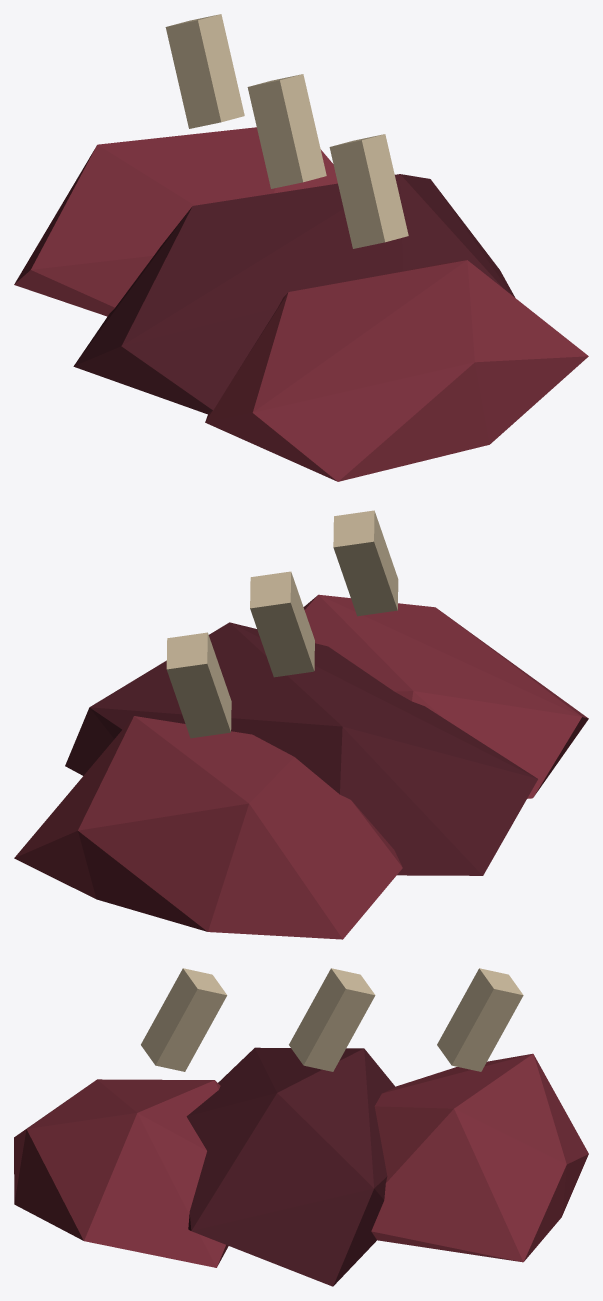
File: objet_carapace.glb
3 views of the same model, one above another, from view 1: azimuth 30°, elevation 25°; view 2: azimuth 150°, elevation 25°; view 3: azimuth 270°, elevation 25° (orthographic). The views are drawn at different scales.
Parts seen in each view (by area): view 1: carapace_carapace.002, carapace_carapace_sombre.002, carapace_corne.002; view 2: carapace_carapace.002, carapace_carapace_sombre.002, carapace_corne.002; view 3: carapace_carapace.002, carapace_carapace_sombre.002, carapace_corne.002.
Boxes of the visible parts, x1,y1,x2,y2 form: carapace_carapace.002: (14, 127, 588, 481); carapace_carapace_sombre.002: (73, 174, 515, 414); carapace_corne.002: (165, 14, 408, 248); carapace_carapace.002: (14, 594, 588, 939); carapace_carapace_sombre.002: (65, 622, 537, 875); carapace_corne.002: (166, 510, 398, 738); carapace_carapace.002: (14, 1053, 588, 1267); carapace_carapace_sombre.002: (186, 1047, 395, 1286); carapace_corne.002: (141, 968, 523, 1071).
Bounding box in the file's own units: 0.2081 × 0.1153 × 0.2717.
